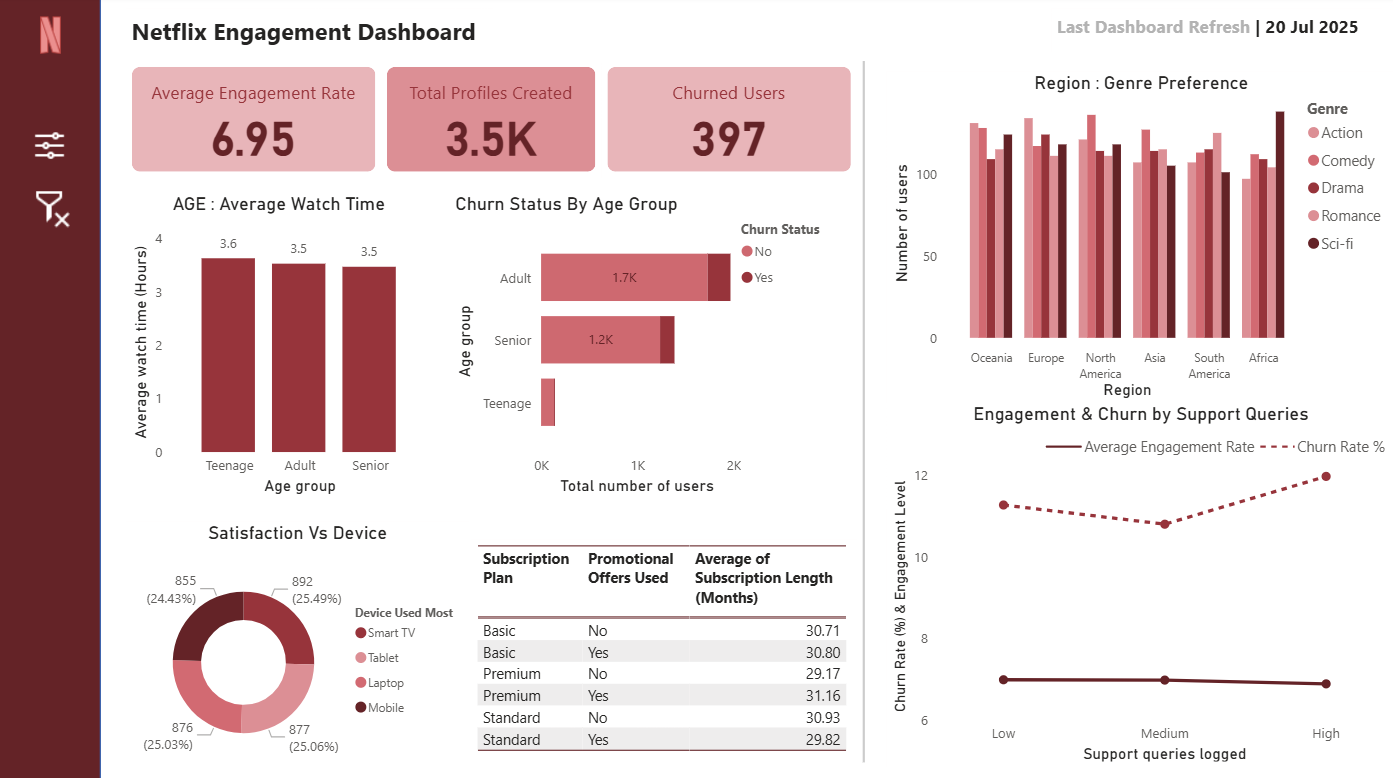

This screenshot's page, from the dashboard's own definition file:
{"tool":"powerbi","page":{"name":"Page 1","canvas":[1280,720],"ordinal":0},"visuals":[{"type":"columnChart","title":"AGE : Average Watch Time","fields":{"Category":["Netflix_Engagement_Dataset.Age group"],"Y":["Avg(Netflix_Engagement_Dataset.Daily Watch Time (Hours))"]},"box":[118.3,181.7,280,280],"z":0},{"type":"barChart","title":"Churn Status By Age Group","fields":{"Category":["Netflix_Engagement_Dataset.Age group"],"Series":["Netflix_Engagement_Dataset.Churn Status (Yes/No)"],"Y":["CountNonNull(Netflix_Engagement_Dataset.Customer ID)"]},"box":[415,181.7,360,280],"z":1000},{"type":"cardVisual","fields":{"Data":["Avg(Netflix_Engagement_Dataset.Engagement Rate (1-10))"]},"box":[118.3,60,233.3,106.7],"z":2000},{"type":"cardVisual","fields":{"Data":["CountNonNull(Netflix_Engagement_Dataset.Number of Profiles Created)"]},"box":[351.7,60,201.7,106.7],"z":3000},{"type":"shape","box":[0,0,95,720],"z":4000},{"type":"textbox","box":[118.3,11.7,335,40],"z":5000},{"type":"shape","box":[786.7,60,13.3,641.7],"z":6000},{"type":"image","box":[20,11.7,56.7,48.3],"z":7000},{"type":"textbox","box":[965,11.7,301.7,40],"z":8000},{"type":"image","box":[26.7,108.3,43.3,58.3],"z":9000},{"type":"image","box":[23.3,166.7,48.3,55],"z":10000},{"type":"cardVisual","fields":{"Data":["Netflix_Engagement_Dataset.Churned Users"]},"box":[553.3,60,233.3,106.7],"z":11000},{"type":"clusteredColumnChart","title":"Region : Genre Preference ","fields":{"Category":["Netflix_Engagement_Dataset.Region"],"Series":["Netflix_Engagement_Dataset.Genre Preference"],"Y":["CountNonNull(Netflix_Engagement_Dataset.Customer ID)"]},"box":[813.3,70,466.7,303.3],"z":12000},{"type":"donutChart","title":"Satisfaction Vs Device","fields":{"Category":["Netflix_Engagement_Dataset.Device Used Most Often"],"Y":["CountNonNull(Netflix_Engagement_Dataset.Customer Satisfaction Score (1-10))"]},"box":[117.9,482.1,314.3,237.9],"z":13000},{"type":"tableEx","fields":{"Values":["Netflix_Engagement_Dataset.Subscription Plan","Netflix_Engagement_Dataset.Promotional Offers Used","Avg(Netflix_Engagement_Dataset.Subscription Length (Months))"]},"box":[433.3,498.3,353.3,206.7],"z":14000},{"type":"lineChart","title":"Engagement & Churn by Support Queries","fields":{"Y":["Avg(Netflix_Engagement_Dataset.Engagement Rate (1-10))","Netflix_Engagement_Dataset.Churn Rate %"],"Category":["Netflix_Engagement_Dataset.SupportedQueriesLogged Grouped"]},"box":[813.5,373.1,465.9,333],"z":15000}]}

Visuals, with their boxes in screenshot pixels (x1, y1, x2, y2), scaled from the page's 1280x720 canvas onto the 1393x778 screenshot:
"AGE : Average Watch Time" columnChart: left=129, top=196, right=433, bottom=499
"Churn Status By Age Group" barChart: left=452, top=196, right=843, bottom=499
cardVisual - Avg(Netflix_Engagement_Dataset.Engagement Rate (1-10)): left=129, top=65, right=383, bottom=180
cardVisual - CountNonNull(Netflix_Engagement_Dataset.Number of Profiles Created): left=383, top=65, right=602, bottom=180
shape: left=0, top=0, right=103, bottom=777
textbox: left=129, top=13, right=493, bottom=56
shape: left=856, top=65, right=871, bottom=758
image: left=22, top=13, right=83, bottom=65
textbox: left=1050, top=13, right=1379, bottom=56
image: left=29, top=117, right=76, bottom=180
image: left=25, top=180, right=78, bottom=240
cardVisual - Netflix_Engagement_Dataset.Churned Users: left=602, top=65, right=856, bottom=180
"Region : Genre Preference " clusteredColumnChart: left=885, top=76, right=1392, bottom=403
"Satisfaction Vs Device" donutChart: left=128, top=521, right=470, bottom=777
tableEx - Netflix_Engagement_Dataset.Subscription Plan x Netflix_Engagement_Dataset.Promotional Offers Used: left=472, top=538, right=856, bottom=762
"Engagement & Churn by Support Queries" lineChart: left=885, top=403, right=1392, bottom=763
